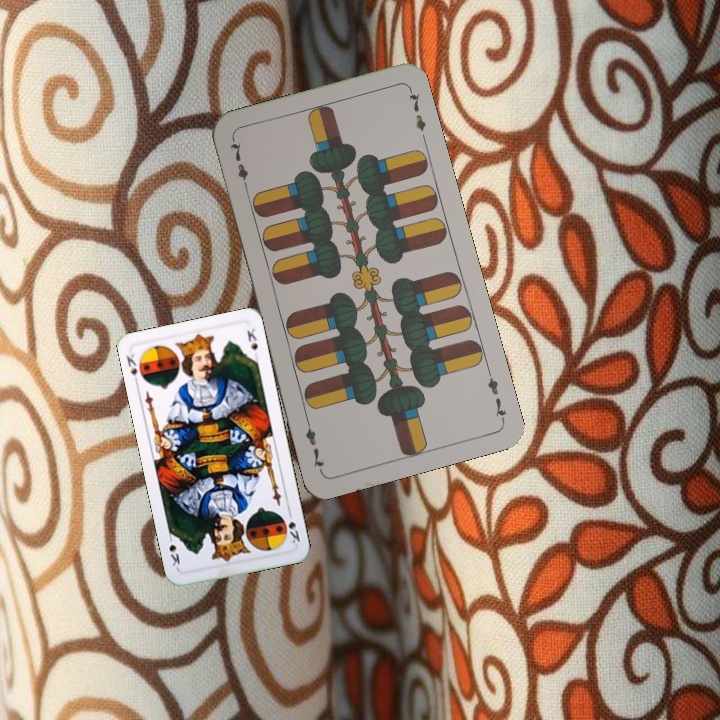E7: (483, 365, 509, 423), (226, 135, 251, 193)
SK: (284, 507, 303, 546), (122, 350, 141, 388)
